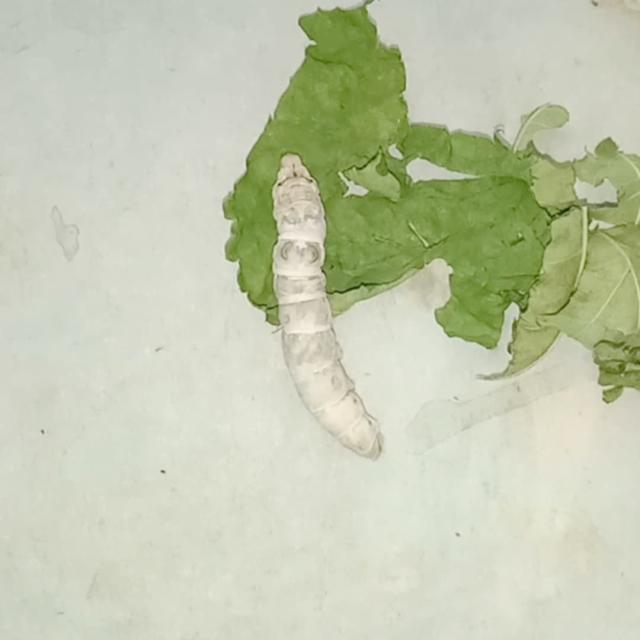Grasserie: (254, 146, 401, 469)
